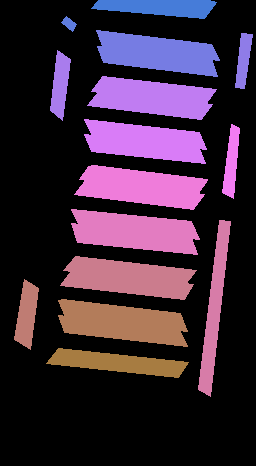parkingspot: (198, 220, 230, 396), (58, 299, 187, 331), (46, 348, 188, 377), (58, 315, 187, 346), (71, 223, 197, 254), (60, 270, 193, 299), (71, 209, 199, 239), (74, 180, 204, 209), (63, 256, 196, 284), (96, 30, 219, 60), (84, 119, 206, 149), (87, 90, 212, 119), (97, 46, 217, 76), (79, 165, 207, 193), (84, 134, 205, 163), (91, 76, 216, 103), (91, 0, 216, 18), (14, 279, 38, 349), (50, 50, 70, 120), (222, 124, 239, 198), (235, 33, 252, 88), (61, 16, 76, 31)
